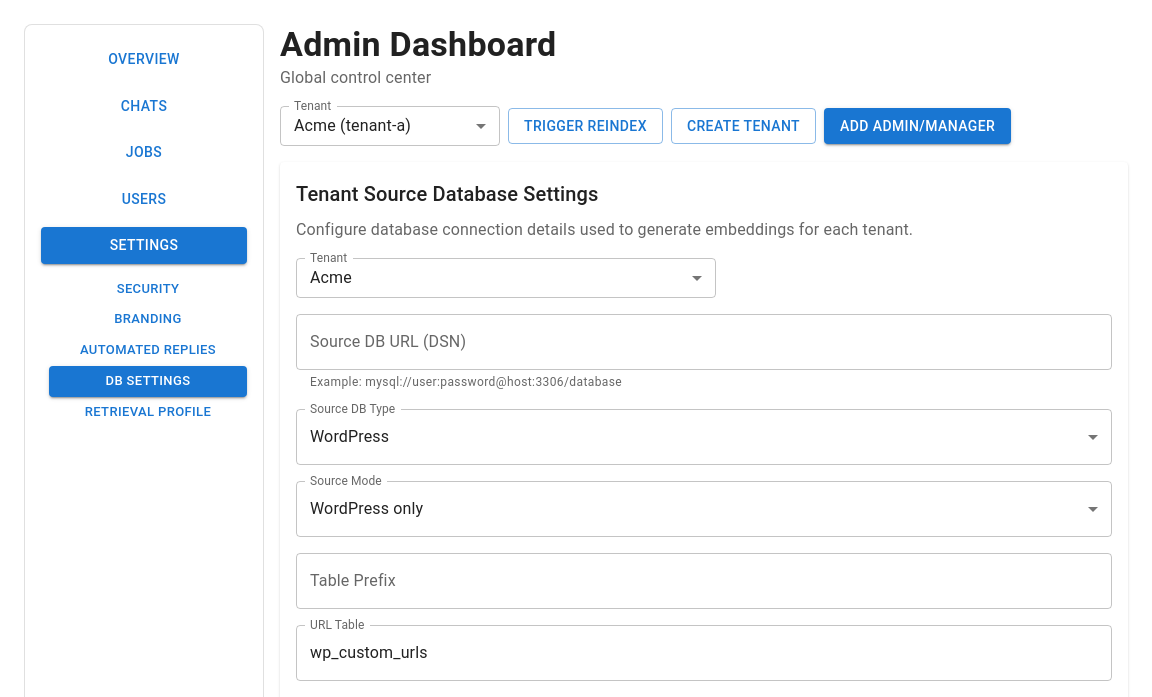
AdminDashboard source config › shows WooCommerce as a source db type option
Press the mouse on the dropdown named "Source DB Type": [350, 437] box [310, 427, 389, 446]
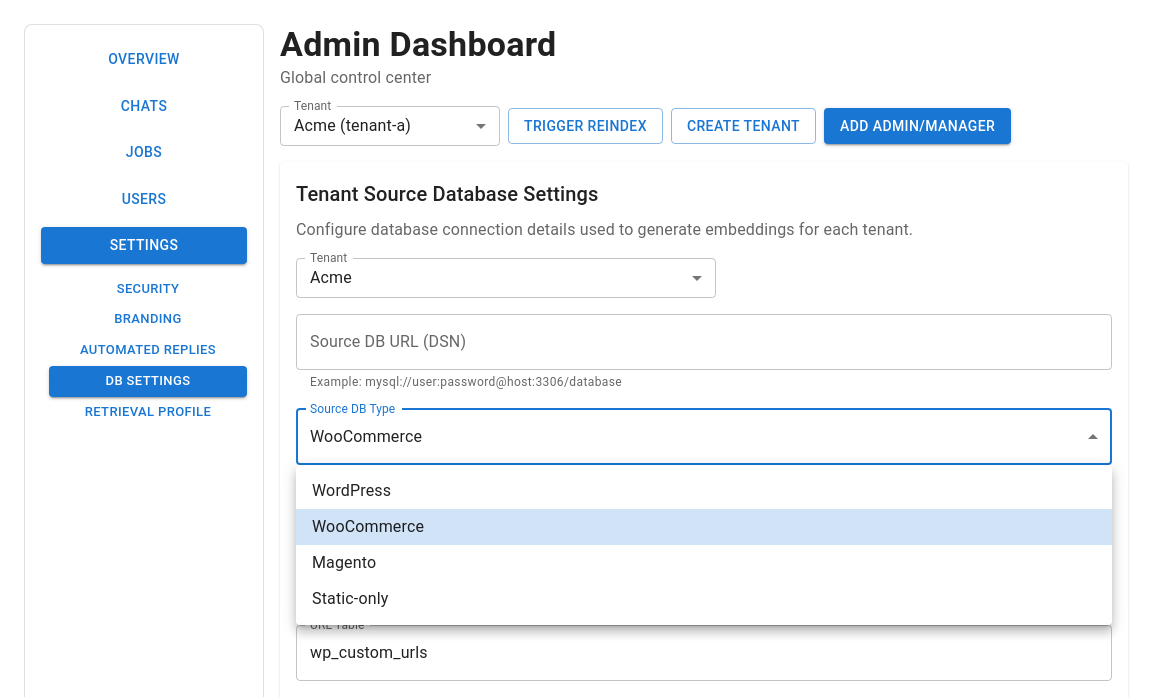
Check: the option "WooCommerce" is shown, box [296, 509, 1112, 545]
Check: the option "Magento" is shown, box [312, 553, 376, 572]
Check: the option "Static-only" is shown, box [312, 589, 388, 608]
